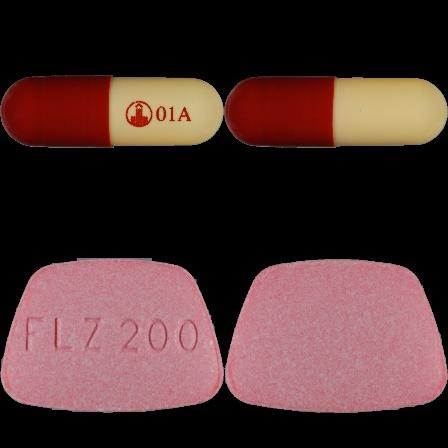54868-5143: (0, 0, 224, 224)
